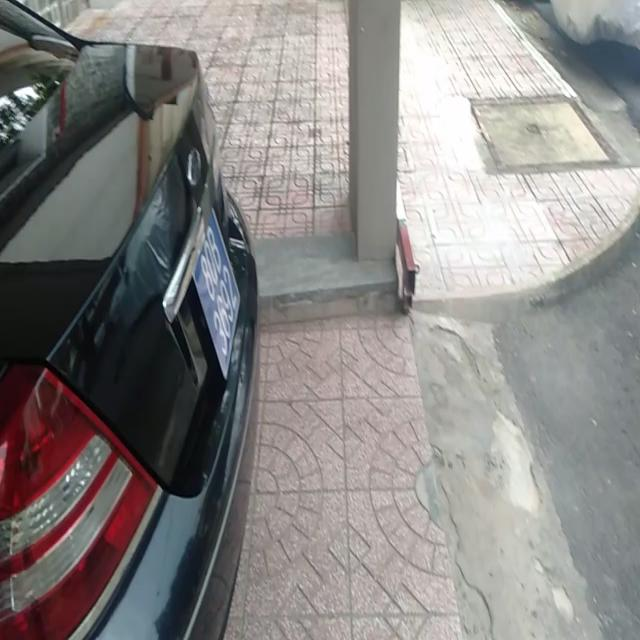bien_xanh: (190, 208, 244, 382)
